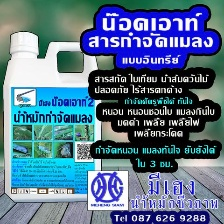insecticide: (0, 27, 104, 204)
